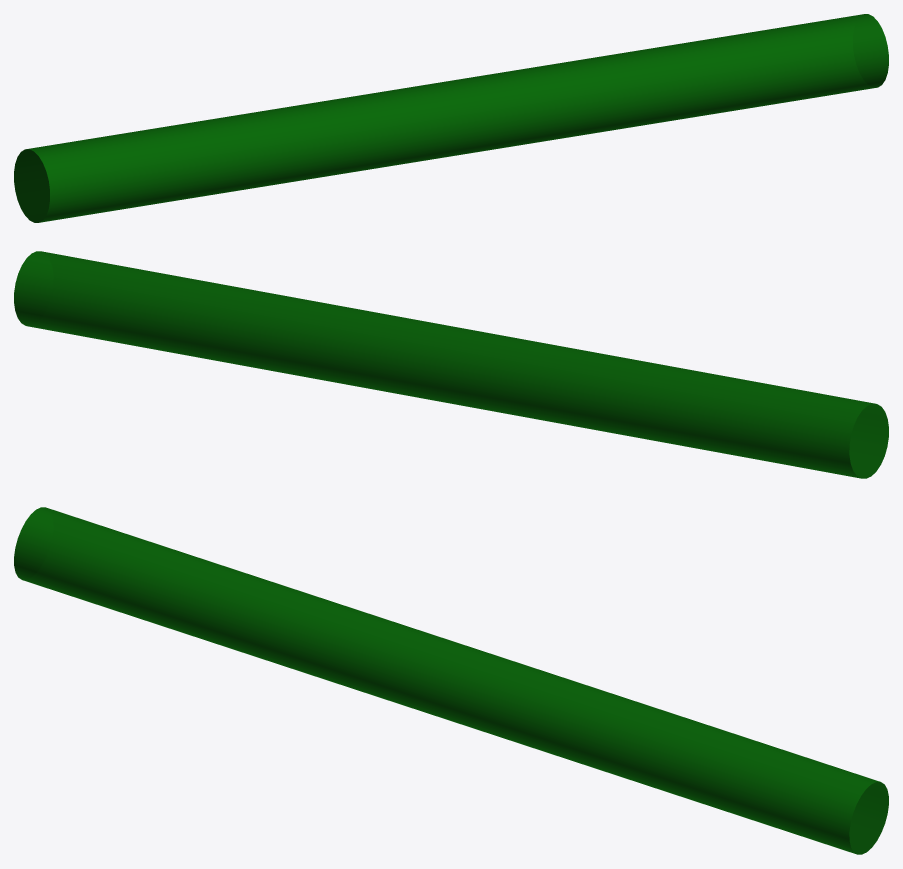
File: Event_421556567_jet_4.fbx
3 views of the same model, one above another, from view 1: azimuth 30°, elevation 25°; view 2: azimuth 150°, elevation 25°; view 3: azimuth 330°, elevation 25° (orthographic).
Parts seen in each view (by area): view 1: Model; view 2: Model; view 3: Model.
Boxes of the visible parts, x1=… form: Model: x1=14, y1=14, x2=888, y2=222; Model: x1=14, y1=251, x2=888, y2=478; Model: x1=14, y1=507, x2=888, y2=854.
Size of the model in its own units: 0.514 by 0.0752 by 0.0505.
